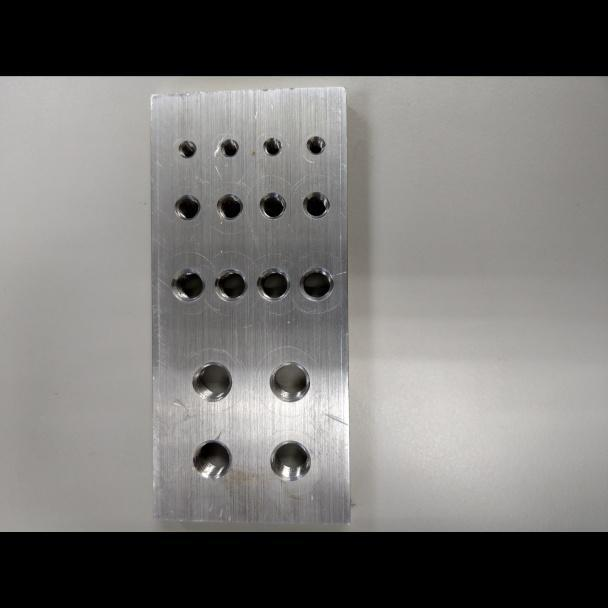hole: (269, 438, 312, 482), (268, 359, 311, 402), (191, 360, 233, 402), (191, 438, 233, 479), (169, 266, 206, 303), (255, 265, 291, 302), (298, 266, 335, 302), (213, 267, 248, 303), (258, 190, 287, 220), (301, 189, 330, 219), (173, 193, 202, 221), (215, 191, 243, 220), (305, 134, 326, 155), (219, 137, 239, 158), (262, 136, 283, 156), (177, 139, 196, 158)
